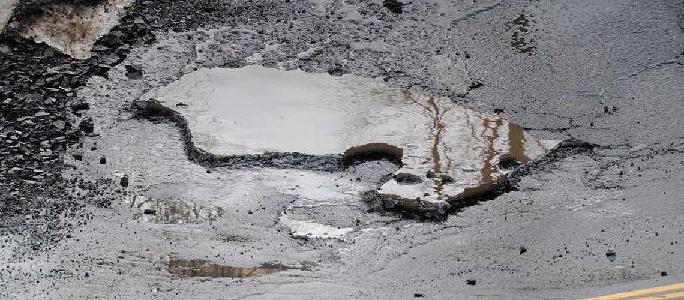pothole: (129, 62, 596, 227), (168, 255, 300, 282), (276, 211, 354, 244)
